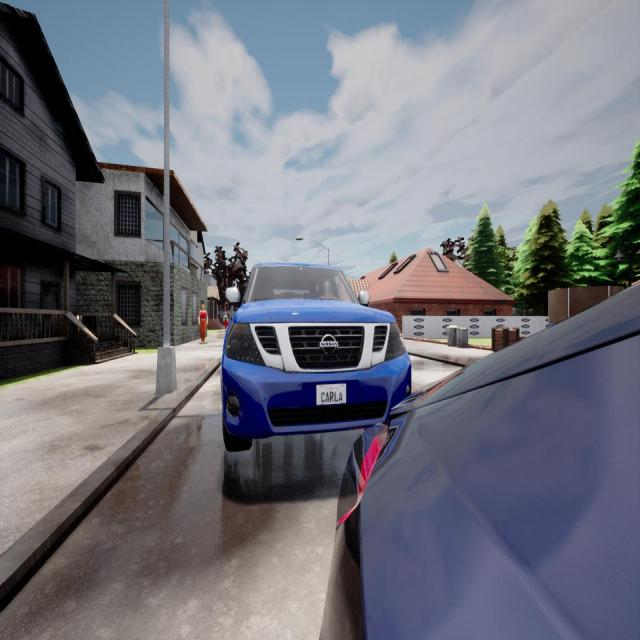Pedestrian: (198, 304, 208, 344), (224, 310, 228, 330)
Vehicle: (320, 284, 640, 638), (222, 263, 410, 451)
